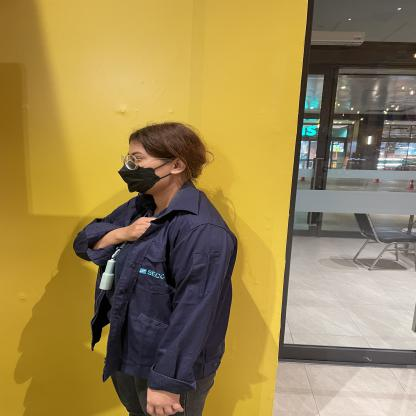Sadness: (62, 200, 186, 272)
